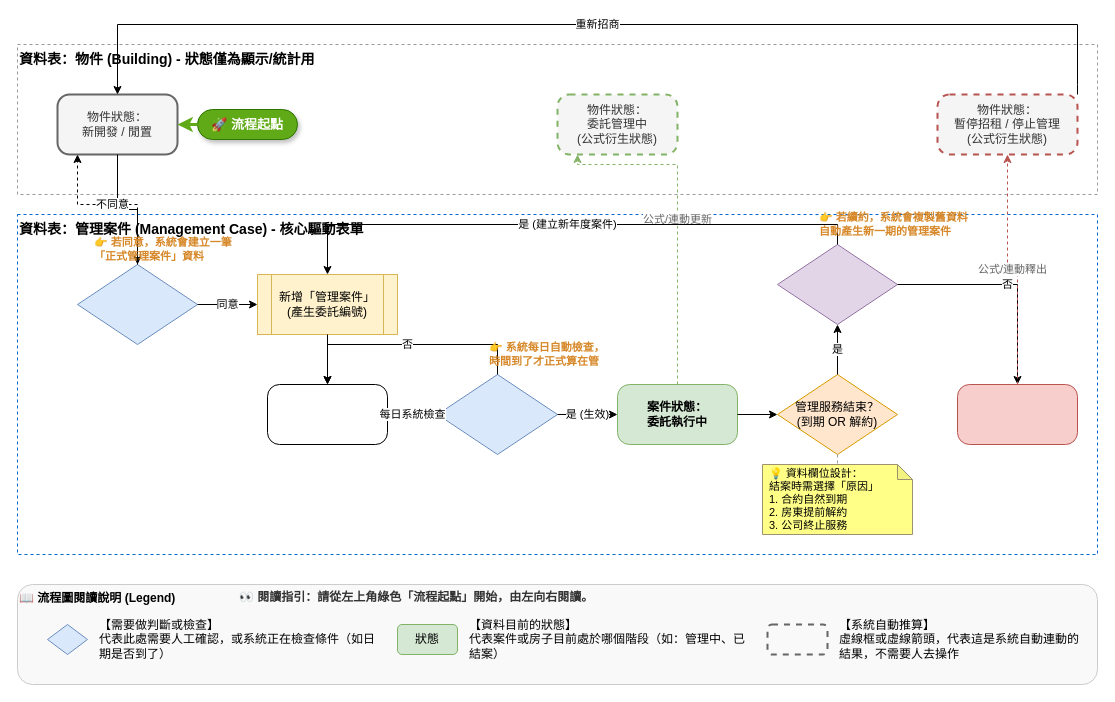
Some shapes in this 1115 by 702 pixel diagram are drawn without their labels. Each missing label, with the centre of its shape:
"房東是否續約？" belongs at point 837,284.
"日期 >= 委託起始日？" belongs at point 497,414.
"是否同意 委託管理？" belongs at point 137,304.
"案件狀態： 合約待生效" belongs at point 327,414.
"案件狀態： 已結案 / 無效" belongs at point 1017,414.
